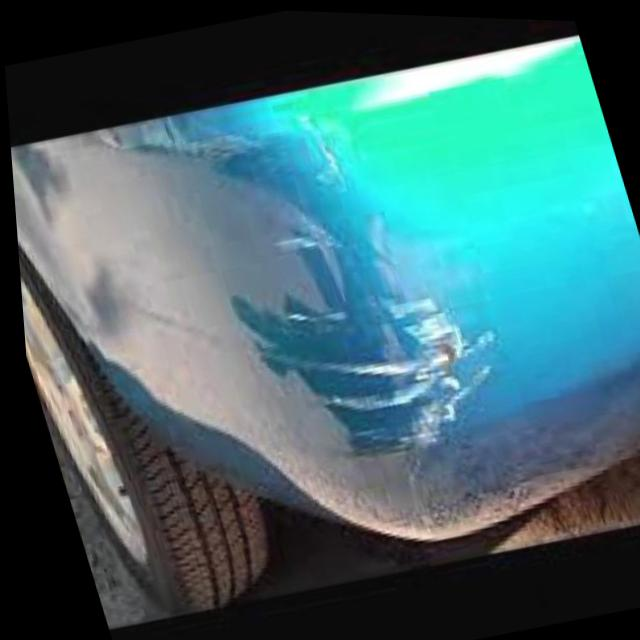Car-Damage: (232, 268, 527, 487)
